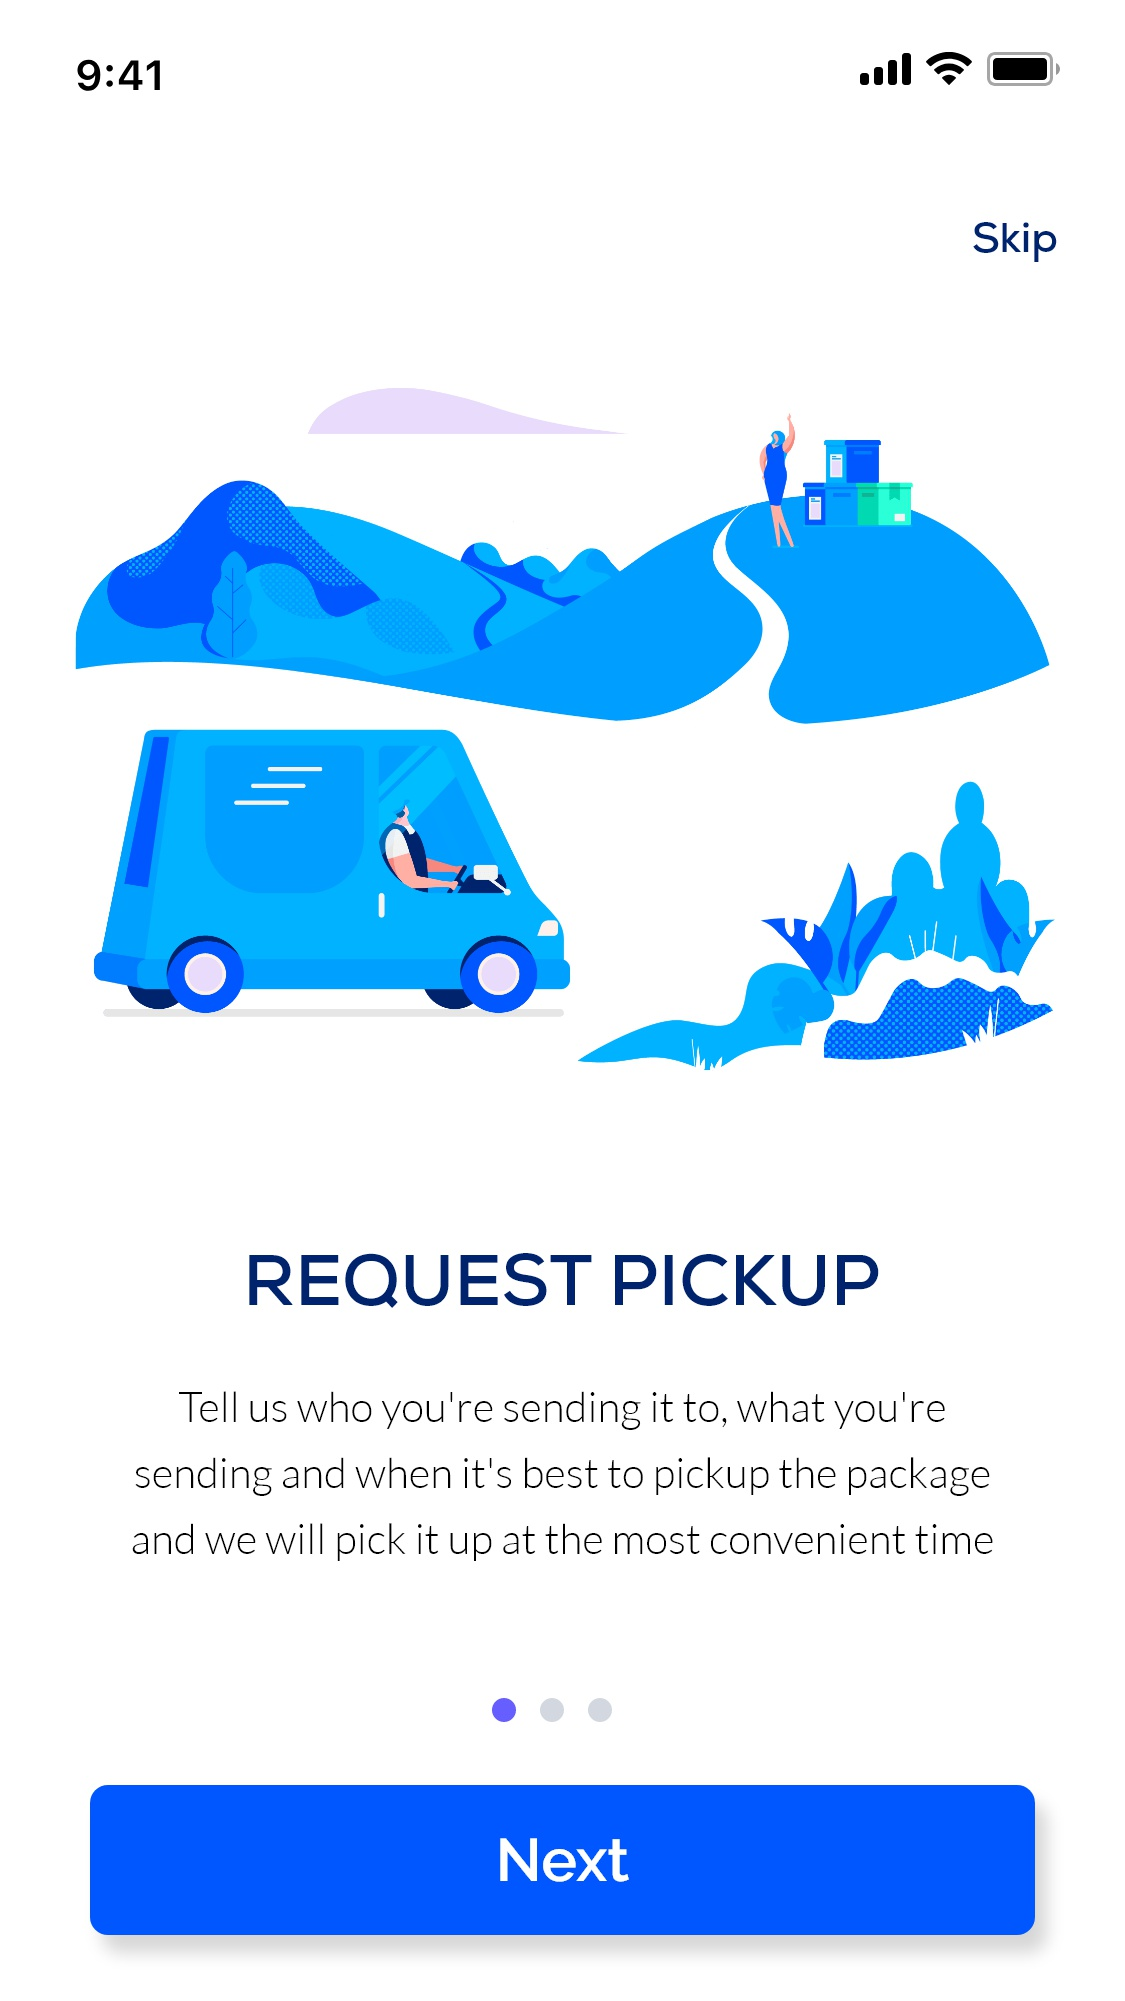Image: (76, 388, 1055, 1072)
PageIndicator: (490, 1697, 613, 1723)
Text: (133, 1389, 995, 1563), (249, 1252, 879, 1308), (973, 223, 1056, 262)
TextButton: (91, 1784, 1036, 1936)
UpperTaskBar: (77, 51, 1060, 93)
